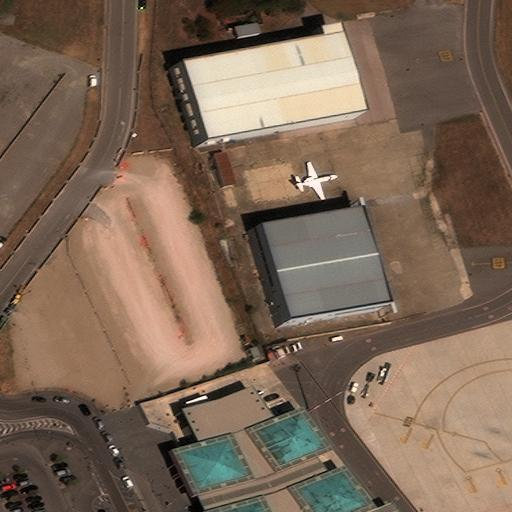Medium Civil Transport: (295, 161, 338, 199)
